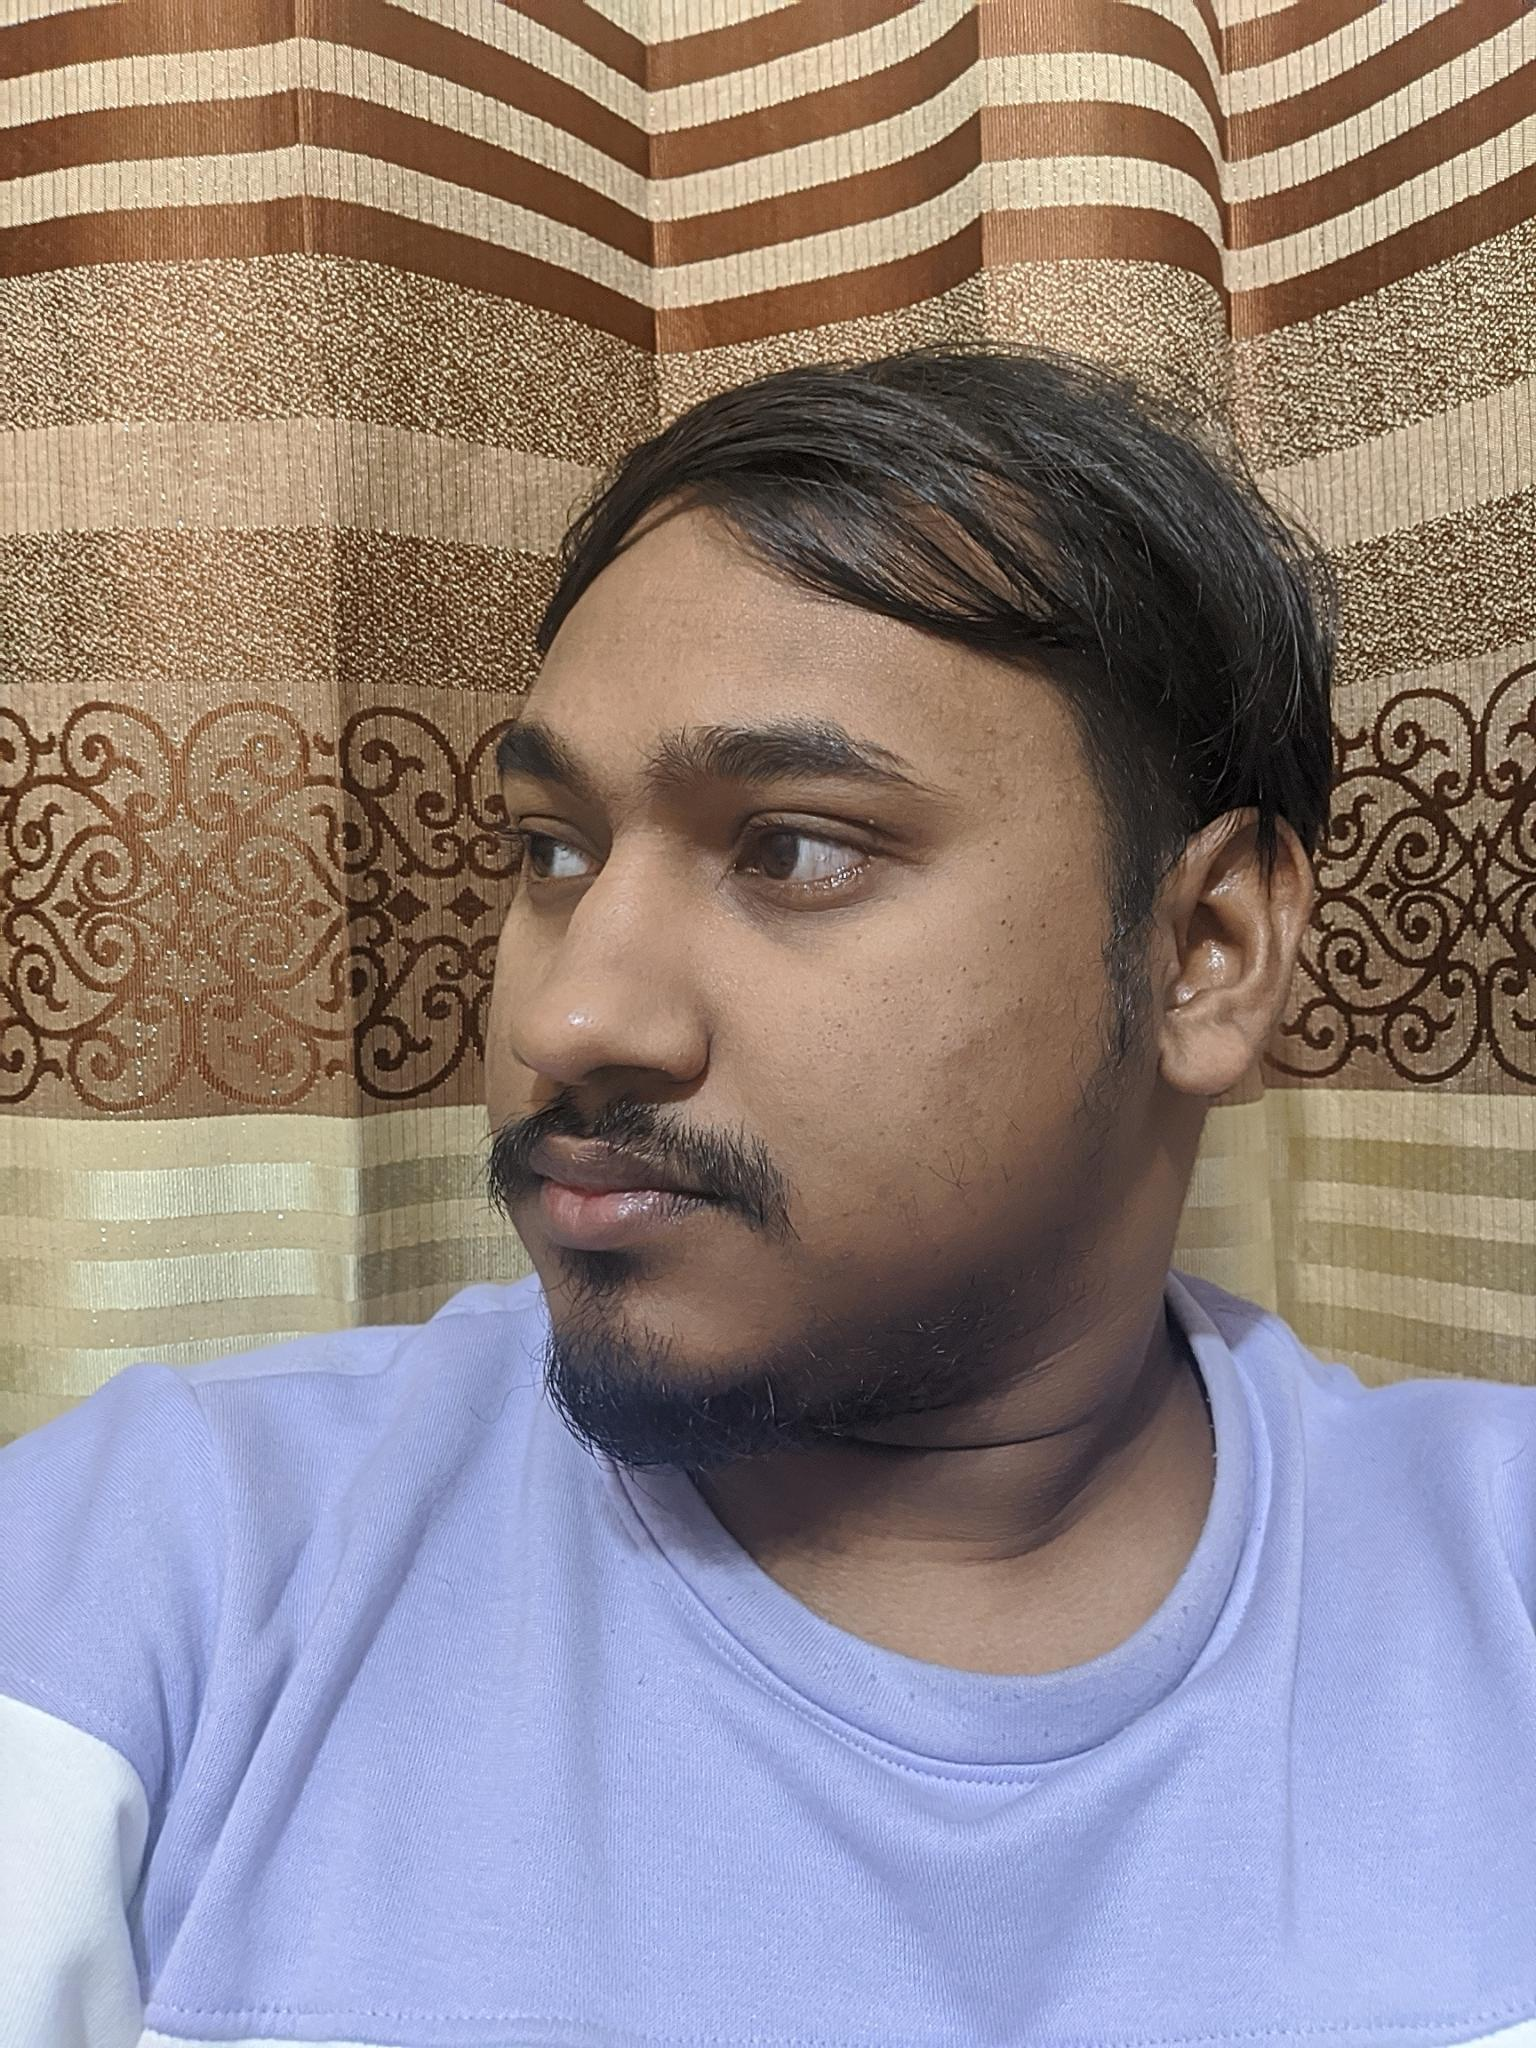Neutral: (437, 660, 1020, 1476)
